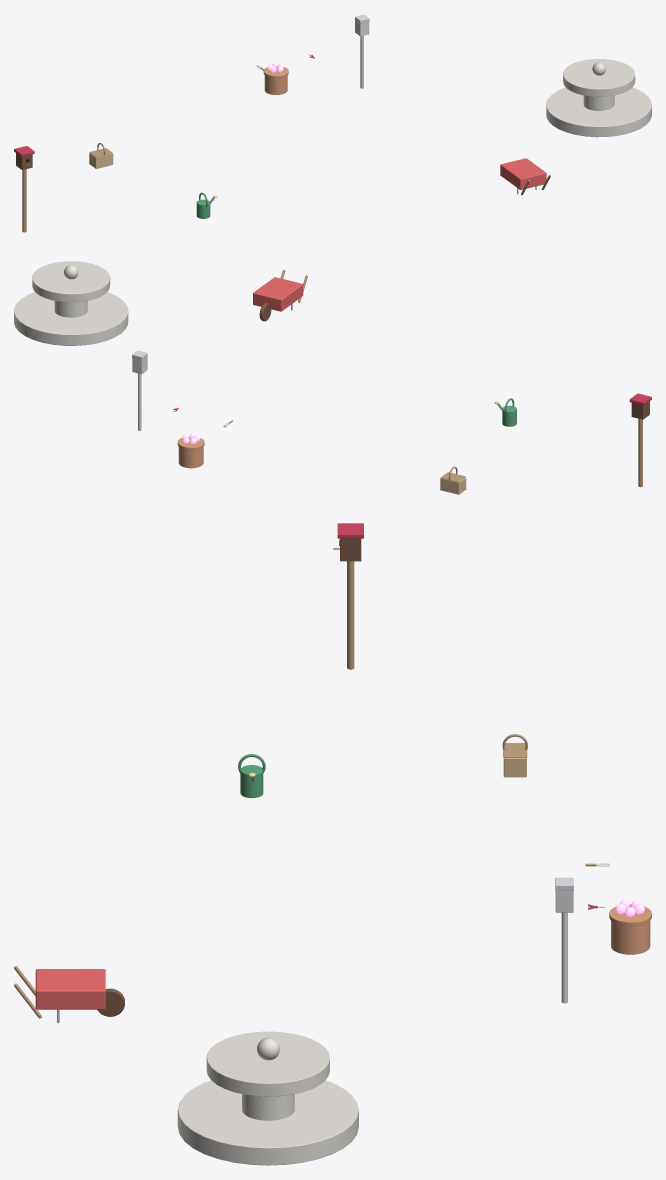
The model's file is garden.glb.
The picture shows the model from 3 angles, top to bottom: view 1: azimuth 30°, elevation 25°; view 2: azimuth 150°, elevation 25°; view 3: azimuth 270°, elevation 25°; orthographic projection. The views are drawn at different scales.
Visible parts, largest first — view 1: Stone_Fountain, Wheelbarrow, Flower_Pot, Birdhouse, Garden_Lantern, Picnic_Basket, Watering_Can; view 2: Stone_Fountain, Wheelbarrow, Flower_Pot, Birdhouse, Garden_Lantern, Picnic_Basket, Watering_Can; view 3: Stone_Fountain, Wheelbarrow, Flower_Pot, Birdhouse, Garden_Lantern, Picnic_Basket, Watering_Can.
Part boxes in pixels (x1,y1,x2,y2): Stone_Fountain: (546, 59, 651, 137); Wheelbarrow: (500, 158, 550, 195); Flower_Pot: (263, 62, 288, 94); Birdhouse: (14, 146, 34, 232); Garden_Lantern: (355, 14, 369, 88); Picnic_Basket: (89, 143, 113, 168); Watering_Can: (196, 192, 217, 218); Stone_Fountain: (14, 261, 128, 345); Wheelbarrow: (253, 270, 307, 321); Flower_Pot: (177, 433, 204, 468); Birdhouse: (629, 393, 651, 487); Garden_Lantern: (132, 350, 147, 430); Picnic_Basket: (440, 466, 466, 494); Watering_Can: (494, 398, 516, 426); Stone_Fountain: (177, 1031, 358, 1165); Wheelbarrow: (14, 966, 124, 1023); Flower_Pot: (609, 899, 651, 954); Birdhouse: (333, 523, 363, 669); Garden_Lantern: (555, 877, 573, 1003); Picnic_Basket: (502, 734, 527, 777); Watering_Can: (238, 754, 265, 798).
Size of what is drawn, in the model's own units: 14.46 by 1.87 by 7.75.
